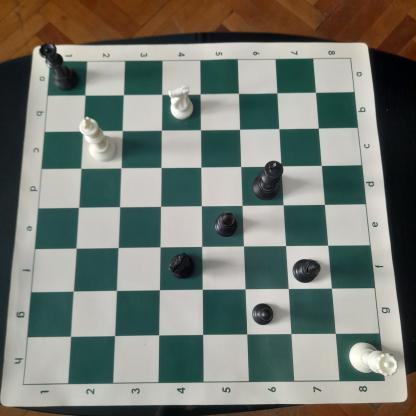black-bishop: (289, 253, 322, 287), (210, 209, 240, 239)
black-king: (248, 159, 286, 203)
black-knight: (165, 250, 197, 284)
black-pawn: (249, 299, 279, 327)
black-queen: (36, 40, 82, 92)
white-king: (77, 114, 120, 164)
white-knight: (164, 80, 198, 122)
white-queen: (344, 337, 400, 381)
